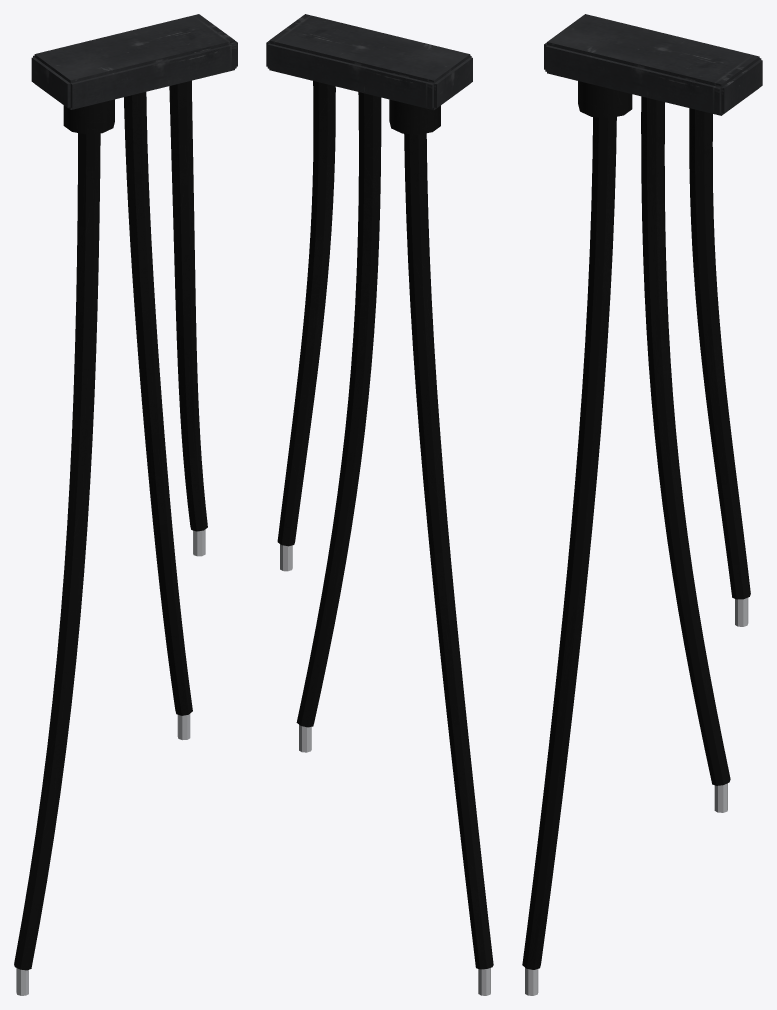
Rendered from cable_hang.gltf.
The picture shows the model from 3 angles, left to right: view 1: azimuth 30°, elevation 25°; view 2: azimuth 150°, elevation 25°; view 3: azimuth 330°, elevation 25°; orthographic projection. The views are drawn at different scales.
Parts seen in each view (by area): view 1: Body; view 2: Body; view 3: Body.
Boxes of the visible parts, x1=… form: Body: x1=14, y1=14, x2=237, y2=995; Body: x1=266, y1=14, x2=493, y2=995; Body: x1=522, y1=14, x2=762, y2=995.
Bounding box in the file's own units: 0.3638 × 1.54 × 0.12.
Materials: 4 (3 with a texture image).
